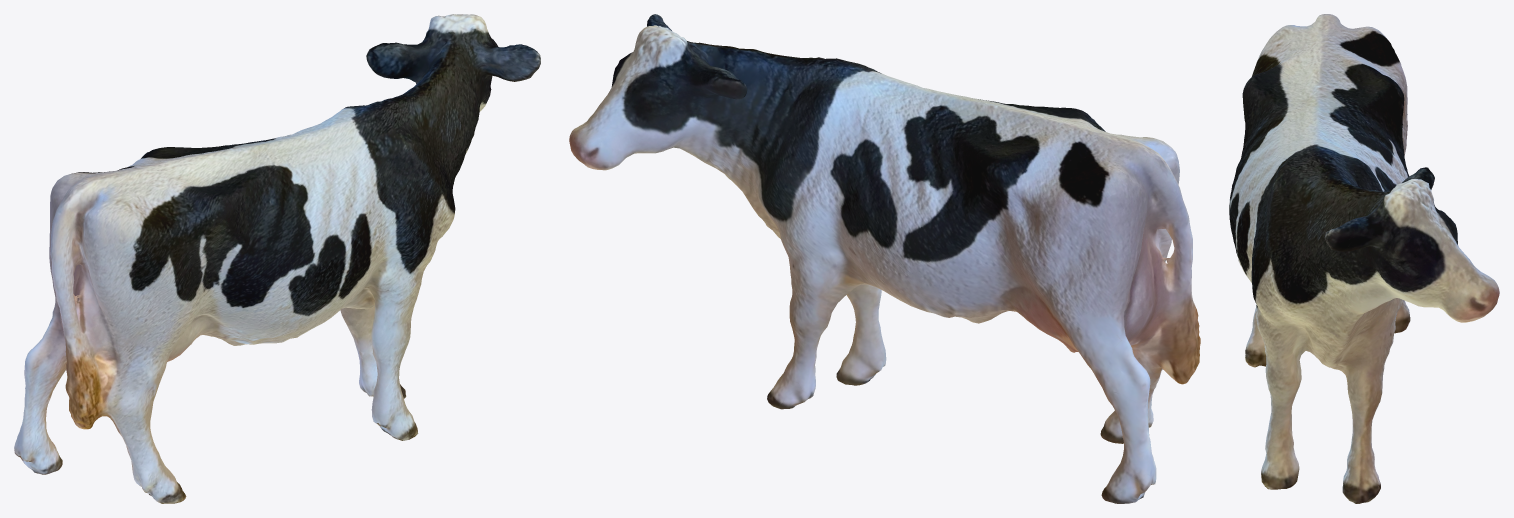
3 renders of one model, left to right at view 1: azimuth 30°, elevation 25°; view 2: azimuth 150°, elevation 25°; view 3: azimuth 270°, elevation 25°, orthographic. The views are drawn at different scales.
Visible parts, largest first — view 1: 3DModel_0; view 2: 3DModel_0; view 3: 3DModel_0.
Boxes of the visible parts, box(x1,y1,x2,y2) form: 3DModel_0: box(14, 14, 540, 503); 3DModel_0: box(569, 14, 1200, 503); 3DModel_0: box(1229, 14, 1499, 503).
Bounding box in the file's own units: 0.1181 × 0.0776 × 0.0529.
Materials: 1 (1 with a texture image).
